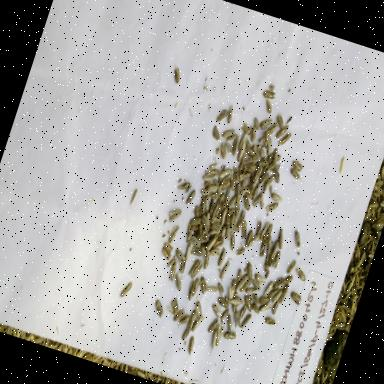pbw: (248, 214, 266, 240), (288, 228, 306, 252), (168, 62, 186, 86), (226, 289, 243, 314), (206, 326, 221, 353), (150, 298, 168, 320), (166, 204, 184, 226), (170, 247, 188, 268), (183, 277, 198, 302), (118, 278, 134, 301), (190, 313, 206, 336), (166, 222, 182, 245), (215, 160, 229, 186), (276, 281, 290, 307), (273, 226, 288, 250), (184, 334, 199, 358), (166, 294, 182, 316), (238, 310, 254, 332), (190, 298, 206, 320), (274, 120, 290, 142), (207, 122, 224, 142), (195, 189, 209, 213), (235, 150, 249, 174), (212, 322, 226, 346), (170, 271, 186, 292), (292, 265, 310, 283), (284, 255, 298, 278), (268, 164, 284, 184), (253, 154, 269, 174), (277, 128, 293, 148), (264, 118, 280, 138), (239, 192, 255, 212), (239, 274, 255, 294), (195, 274, 210, 295), (229, 132, 242, 156), (235, 140, 248, 164), (166, 260, 179, 284), (248, 180, 262, 202), (182, 221, 196, 243), (236, 218, 250, 240), (176, 252, 190, 274), (270, 286, 284, 308), (215, 246, 229, 268), (287, 289, 304, 307), (217, 164, 234, 182), (252, 142, 269, 160), (273, 109, 288, 129), (242, 226, 255, 249), (225, 230, 239, 251), (184, 186, 198, 207), (208, 301, 225, 318), (240, 294, 256, 312), (218, 170, 234, 188), (216, 177, 232, 195), (214, 106, 230, 124), (160, 238, 176, 256), (262, 278, 275, 300), (224, 103, 237, 125), (261, 222, 274, 244), (182, 241, 195, 263), (262, 234, 275, 256), (126, 186, 139, 208), (219, 258, 232, 280), (242, 260, 256, 280), (235, 272, 249, 292), (204, 234, 218, 254), (262, 136, 276, 156), (210, 196, 222, 219), (227, 171, 240, 192), (221, 328, 238, 344), (220, 126, 236, 143), (207, 213, 224, 229), (260, 87, 278, 102), (228, 164, 243, 182), (261, 96, 276, 114), (172, 306, 187, 324), (216, 141, 230, 160), (206, 316, 220, 335), (241, 138, 255, 157), (246, 125, 260, 144), (186, 308, 198, 330), (258, 219, 270, 241), (250, 162, 262, 184), (230, 202, 242, 224), (237, 129, 249, 151), (189, 275, 201, 297), (232, 186, 244, 208), (222, 184, 234, 206), (270, 295, 282, 317), (335, 154, 347, 176), (187, 257, 200, 277), (224, 285, 237, 305), (157, 244, 173, 260), (176, 178, 192, 194), (258, 114, 274, 130), (264, 199, 280, 215), (239, 184, 255, 200), (237, 120, 254, 135), (257, 299, 272, 316), (197, 213, 212, 230), (230, 182, 244, 200), (271, 274, 285, 292), (252, 165, 264, 186), (250, 192, 264, 210), (200, 193, 214, 211), (191, 259, 204, 278), (255, 190, 268, 209), (269, 238, 280, 260), (260, 130, 272, 150), (262, 313, 278, 328), (200, 169, 216, 184), (251, 271, 267, 286), (246, 172, 258, 192), (204, 282, 219, 298), (200, 250, 212, 270), (218, 206, 230, 226), (268, 190, 285, 204), (256, 171, 269, 189), (235, 208, 246, 229), (266, 286, 280, 302), (290, 158, 306, 172), (248, 278, 264, 292), (238, 168, 252, 184), (177, 312, 191, 328), (213, 280, 226, 297), (247, 231, 260, 248), (271, 250, 282, 270), (232, 309, 244, 327), (223, 314, 235, 332), (216, 294, 231, 308), (224, 130, 237, 146), (250, 116, 263, 132), (207, 158, 220, 174), (264, 173, 276, 190), (226, 212, 237, 230), (288, 166, 302, 180), (204, 181, 218, 195), (212, 235, 226, 249), (282, 272, 296, 286), (269, 152, 283, 166), (190, 245, 204, 259), (242, 162, 256, 176), (189, 234, 203, 248), (249, 301, 262, 316), (250, 291, 262, 307), (228, 294, 244, 306), (180, 326, 192, 342), (261, 255, 272, 272), (228, 277, 239, 294), (244, 284, 258, 297), (258, 240, 268, 258), (196, 222, 208, 237), (258, 162, 269, 178), (226, 194, 237, 210), (247, 152, 260, 165), (208, 246, 221, 259), (199, 186, 213, 198), (208, 166, 222, 178), (210, 177, 222, 191), (257, 294, 271, 306), (234, 244, 246, 258), (208, 222, 222, 234), (222, 140, 236, 152), (206, 198, 216, 214), (230, 310, 240, 326), (234, 266, 244, 282), (206, 226, 220, 237), (219, 306, 230, 320), (165, 255, 175, 270), (222, 225, 232, 240), (190, 214, 202, 226), (257, 131, 268, 144), (192, 204, 202, 218), (220, 222, 228, 238), (220, 200, 228, 215), (262, 268, 270, 282), (210, 190, 220, 201), (190, 223, 200, 233)
